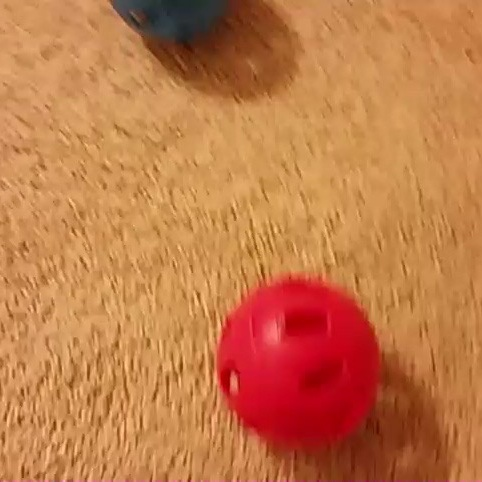blueball: (102, 0, 232, 44)
redball: (212, 269, 387, 458)
